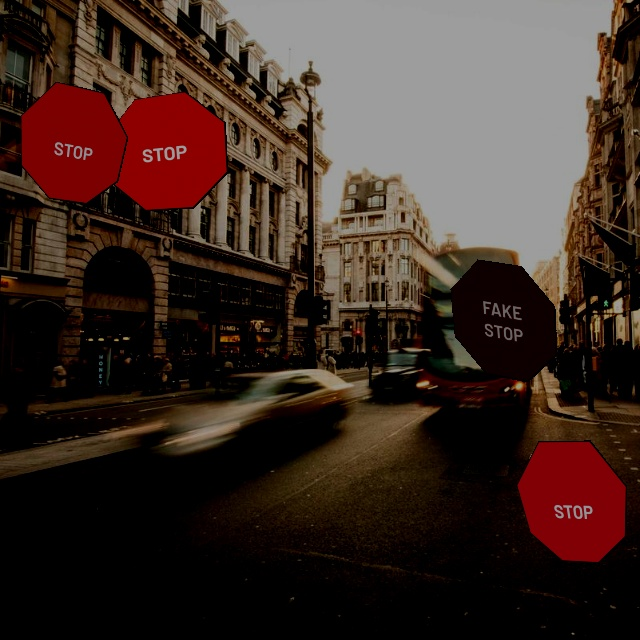FAKE_STOP: (450, 259, 557, 382)
STOP: (105, 91, 228, 211), (516, 440, 627, 563), (20, 81, 128, 204)
